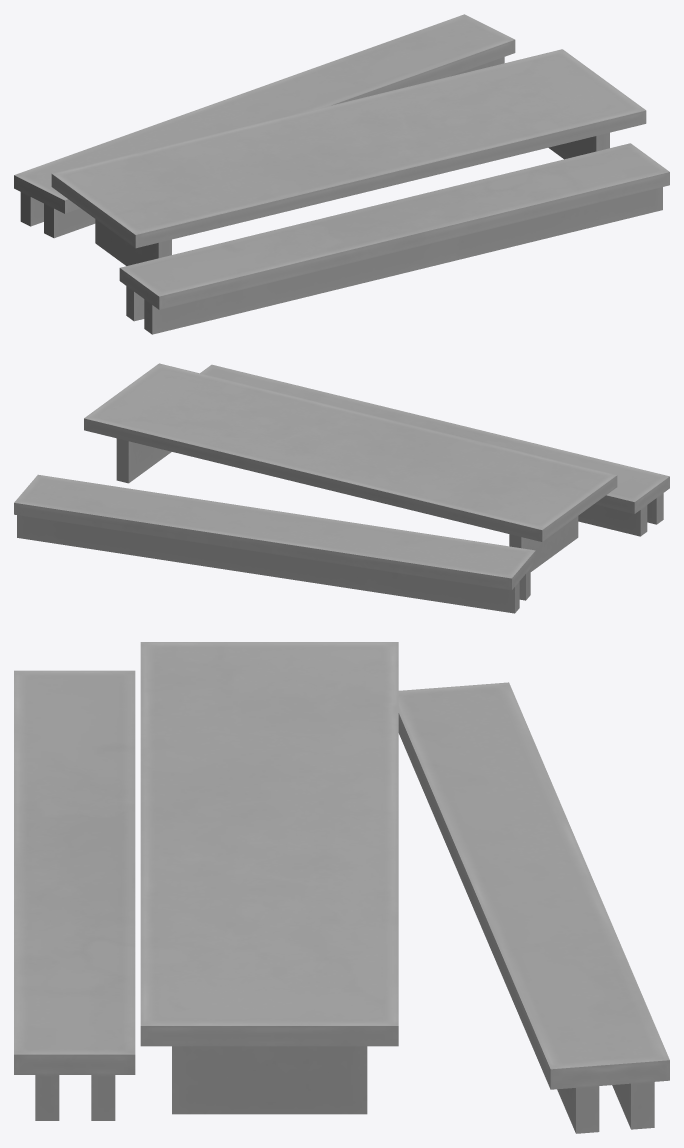
Rendered from Pfb_Canteen__3.fbx.
The picture shows the model from 3 angles, top to bottom: view 1: azimuth 30°, elevation 25°; view 2: azimuth 150°, elevation 25°; view 3: azimuth 270°, elevation 25°; orthographic projection. The views are drawn at different scales.
Parts seen in each view (by area): view 1: Mat_Canteen_02-JLAB; view 2: Mat_Canteen_02-JLAB; view 3: Mat_Canteen_02-JLAB.
Part boxes in pixels (box(x1,y1,x2,y2)): Mat_Canteen_02-JLAB: box(14, 14, 669, 334); Mat_Canteen_02-JLAB: box(14, 363, 669, 613); Mat_Canteen_02-JLAB: box(14, 642, 669, 1133).
Bounding box in the file's own units: 3.63 × 0.4592 × 2.52.
1 material, 1 textured.
